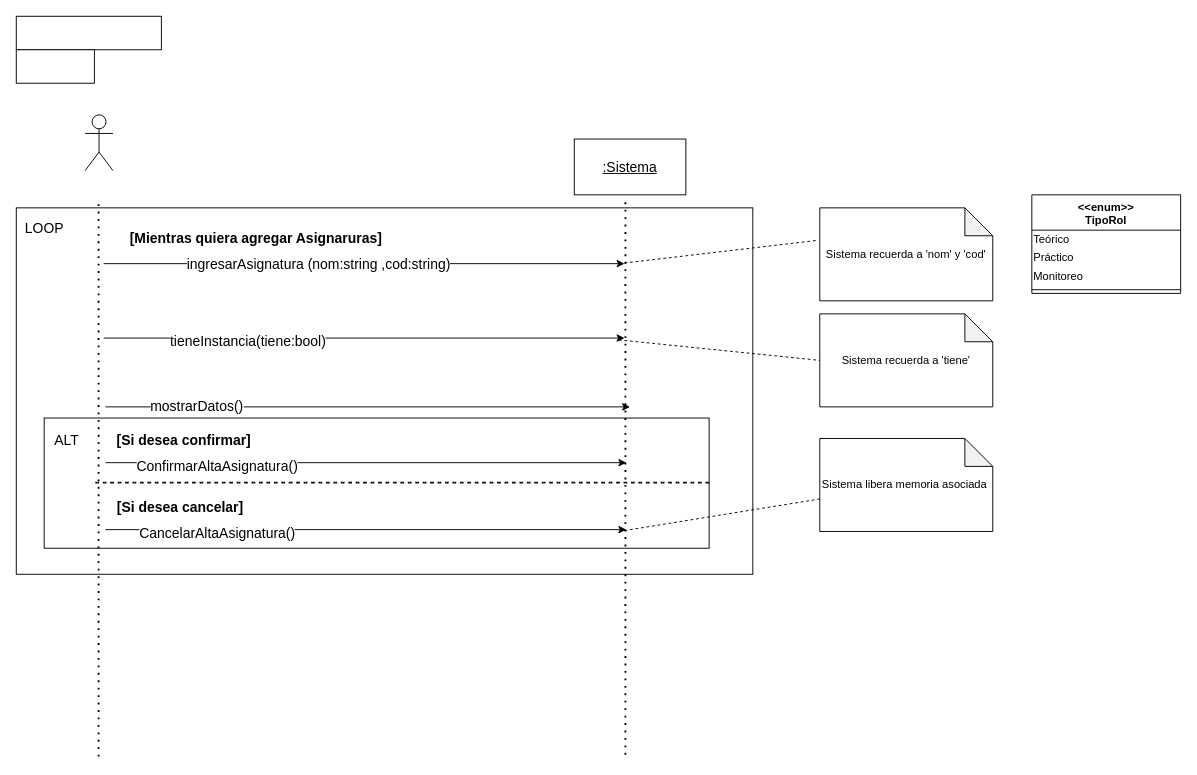
Image size: 1197x775. Some labels were removed from this diagram. The shapes that lost their labels are listed below. From the top down, each one's box as (x1, y1, x2, y2) in pixels, then its label:
(15, 15, 161, 50): Alta de asignatura
(15, 49, 94, 83): Con memoria
(84, 114, 113, 171): Administrador
